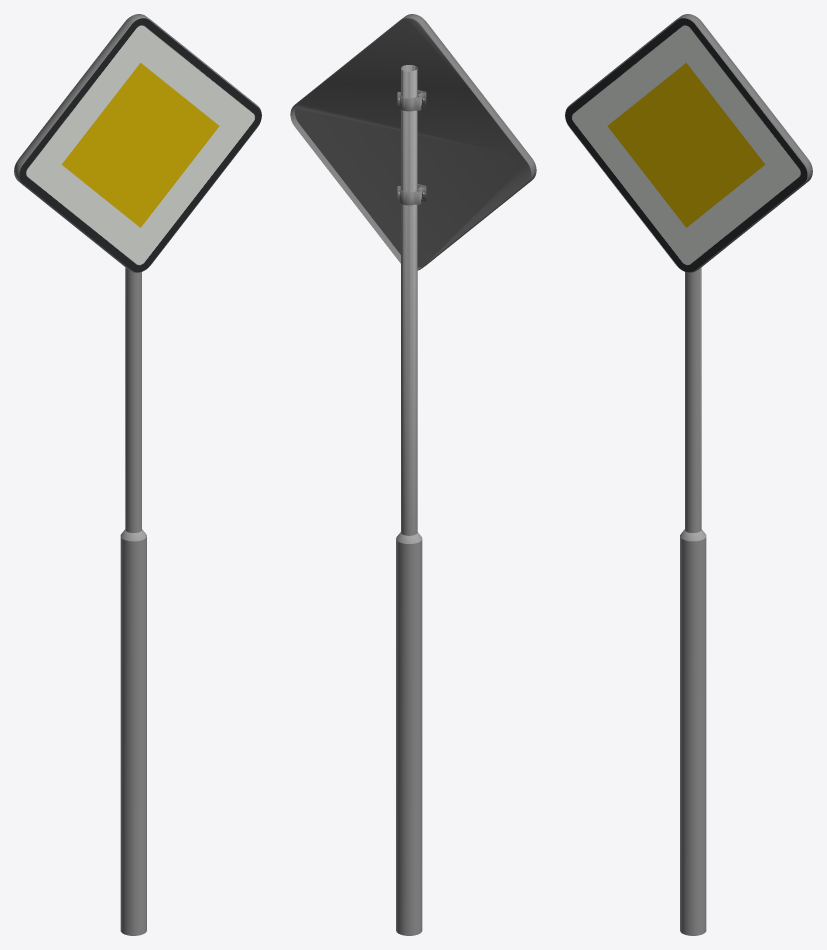
The model's file is PoleWithSignDiamond60.obj.
3 renders of one model, left to right at view 1: azimuth 30°, elevation 25°; view 2: azimuth 150°, elevation 25°; view 3: azimuth 330°, elevation 25°, orthographic.
Visible parts, largest first — view 1: sign_3, pole_1, back_2; view 2: back_2, pole_1; view 3: sign_3, pole_1, back_2.
Part boxes in pixels (box(x1,y1,x2,y2)): sign_3: box(19, 18, 261, 272); pole_1: box(120, 267, 146, 935); back_2: box(14, 14, 261, 272); back_2: box(290, 14, 536, 270); pole_1: box(396, 65, 422, 935); sign_3: box(565, 18, 807, 272); pole_1: box(680, 267, 706, 935); back_2: box(565, 14, 812, 272).
Bounding box in the file's own units: 80.7 × 291 × 7.75.
Materials: 9 (1 with a texture image).
